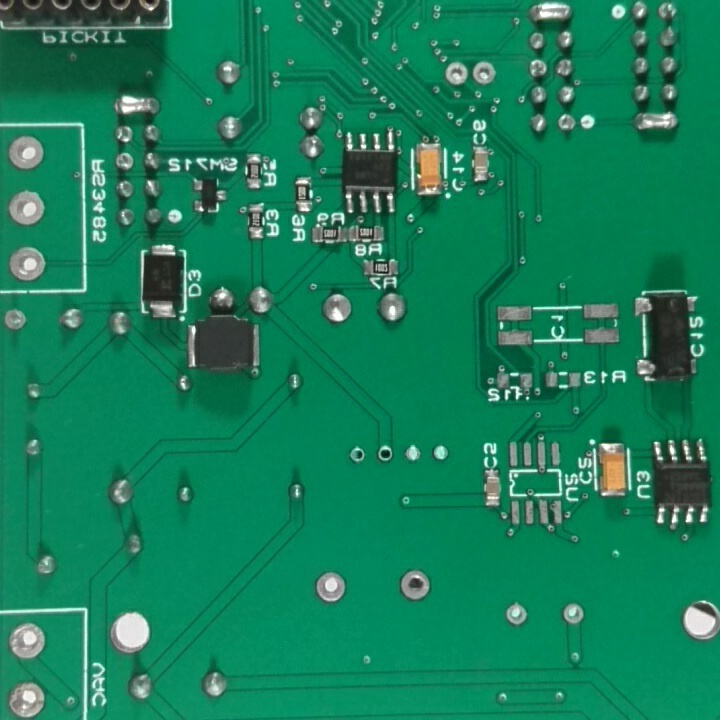F: (1, 679, 50, 720), (5, 620, 47, 661), (7, 133, 50, 171), (6, 245, 46, 284), (7, 189, 47, 227), (393, 566, 431, 606), (310, 570, 351, 604), (441, 60, 470, 90), (470, 60, 499, 89), (502, 601, 531, 628), (3, 306, 28, 334), (563, 601, 586, 630), (401, 443, 426, 466), (657, 1, 681, 23), (345, 446, 370, 467), (110, 150, 136, 169), (373, 443, 396, 463), (528, 60, 550, 80), (432, 443, 451, 466), (558, 114, 580, 132)
P: (107, 91, 167, 118), (629, 109, 684, 133), (524, 3, 576, 25)
